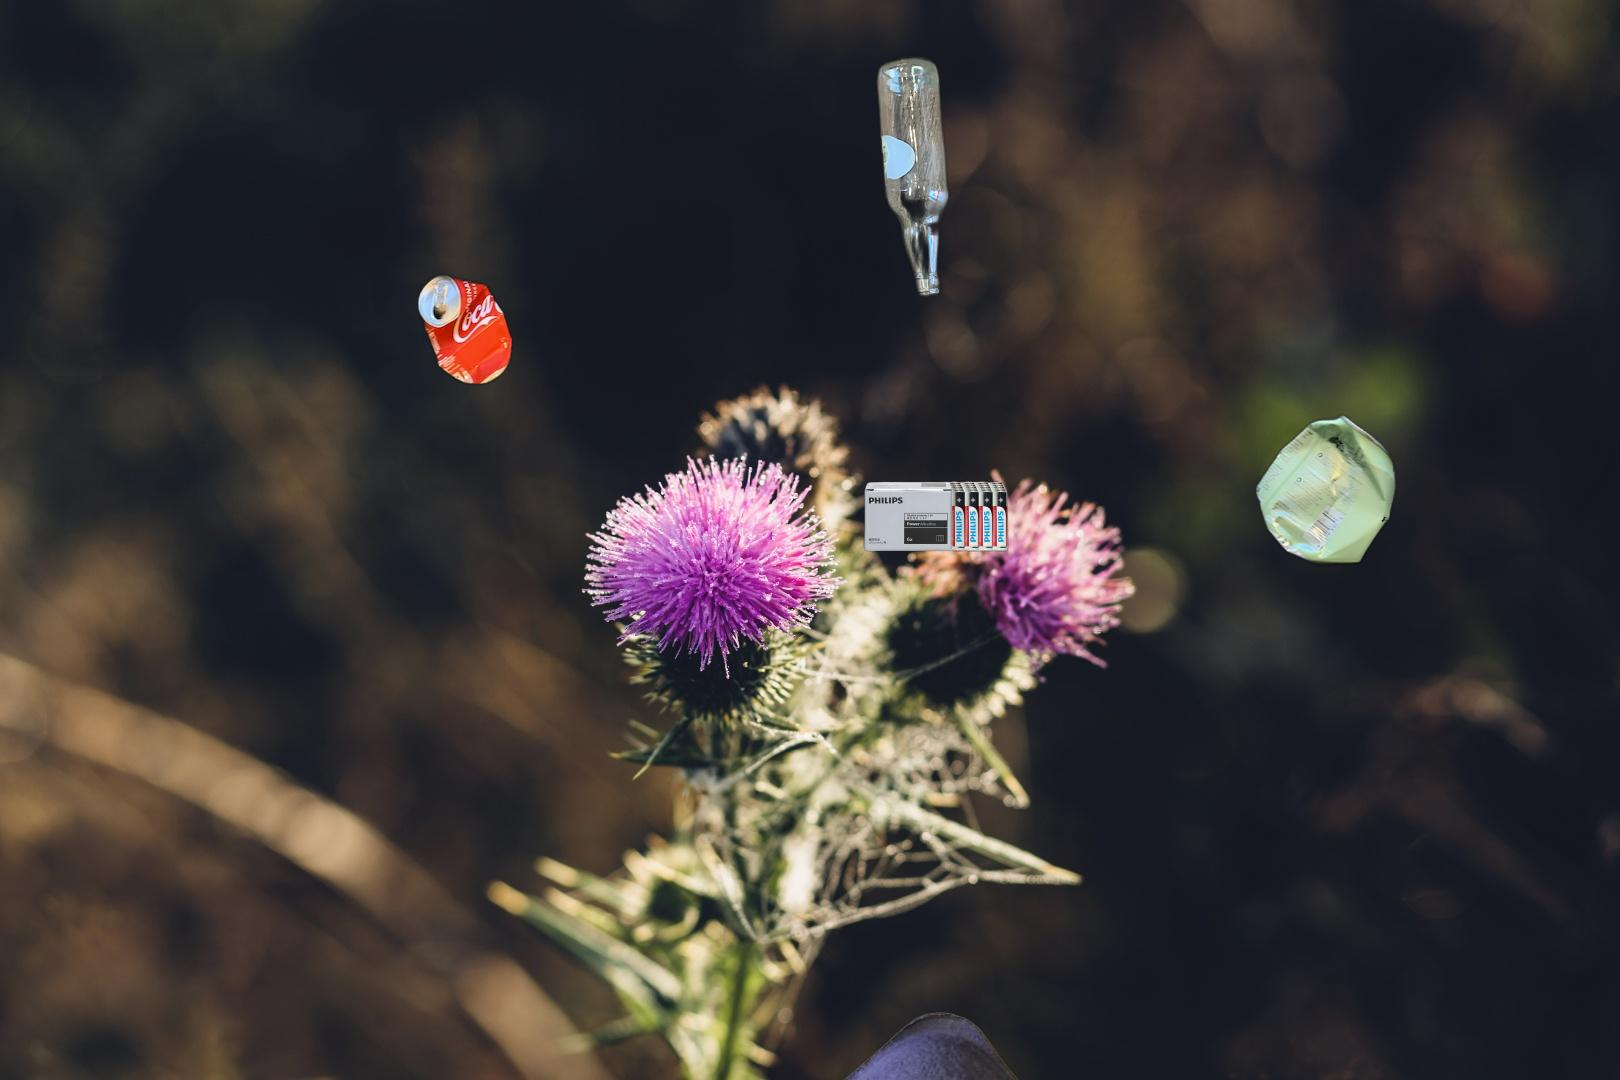battery: (861, 478, 1011, 554)
glass: (872, 51, 960, 305)
metal-cans: (1251, 409, 1400, 572), (413, 270, 516, 391)
paper: (638, 1011, 1150, 1080)
